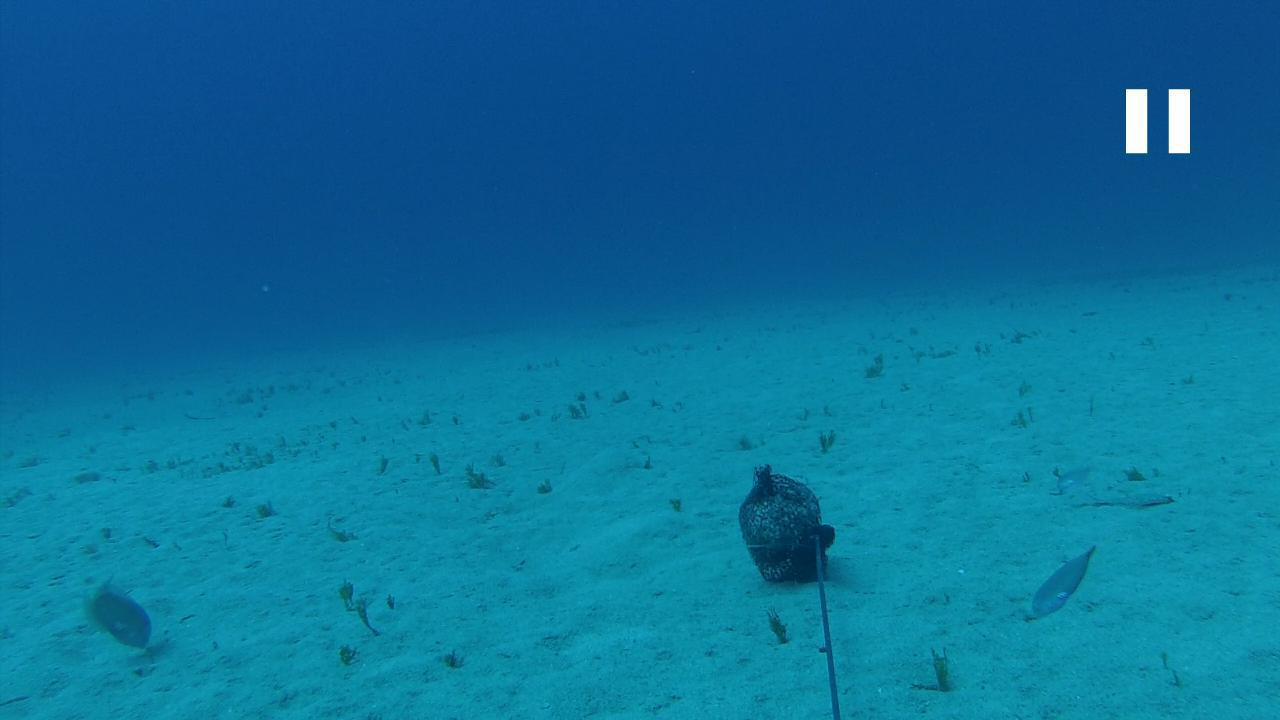bothus: (1062, 486, 1176, 509)
raor: (1023, 544, 1095, 624), (80, 584, 160, 652)
